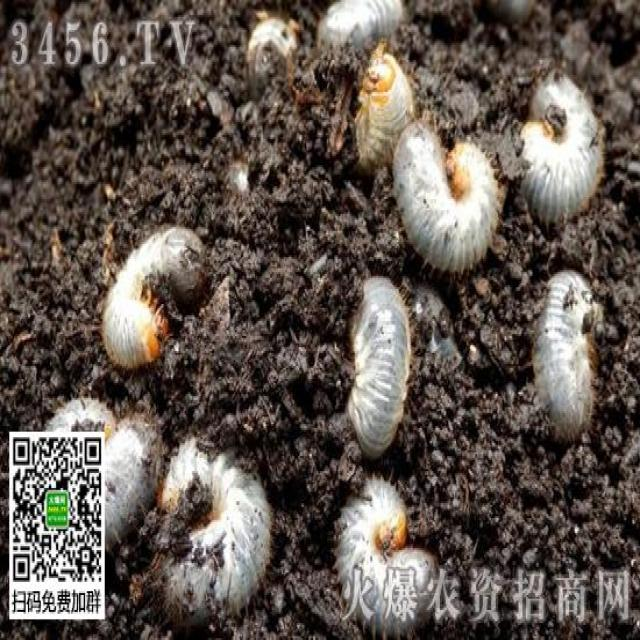Grub-Adult-: (157, 431, 275, 621), (393, 115, 504, 277), (331, 472, 437, 628), (100, 222, 206, 372), (513, 70, 608, 237), (528, 258, 608, 446), (343, 273, 413, 462), (353, 32, 416, 166)
